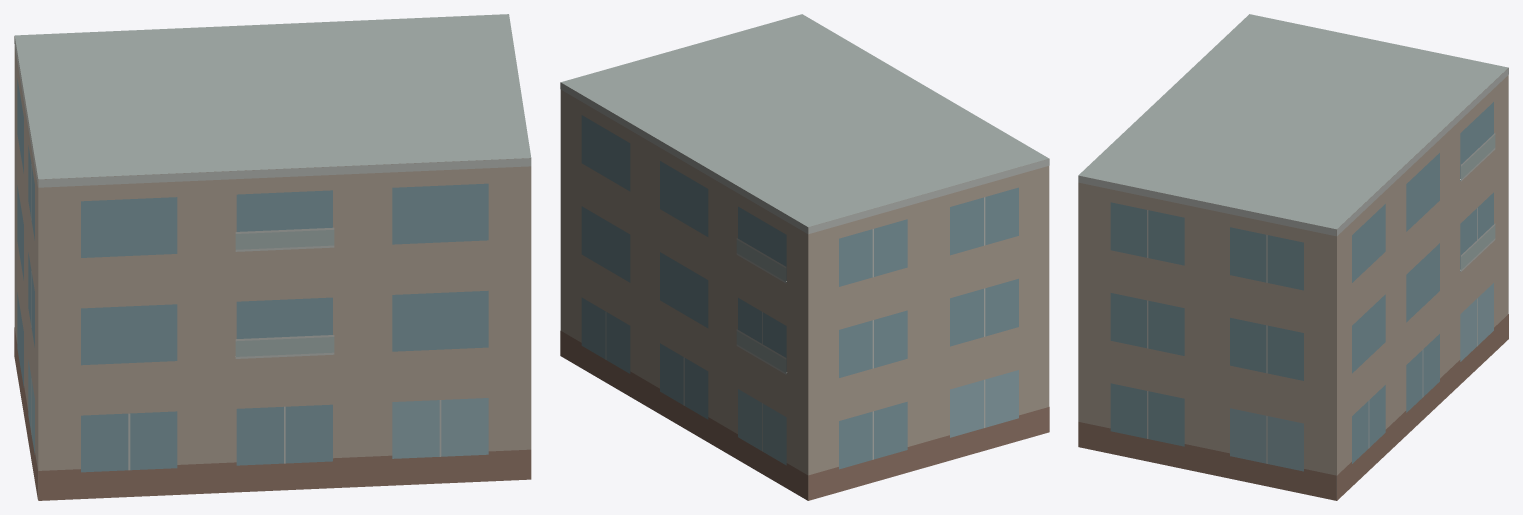
File: survey-upis-32489348.glb
3 views of the same model, side by side, from view 1: azimuth 30°, elevation 25°; view 2: azimuth 150°, elevation 25°; view 3: azimuth 270°, elevation 25° (orthographic). The views are drawn at different scales.
Parts seen in each view (by area): view 1: survey-upis-32489348.tmp; view 2: survey-upis-32489348.tmp; view 3: survey-upis-32489348.tmp.
Boxes of the visible parts, bbox=[...] form: survey-upis-32489348.tmp: bbox=[14, 14, 531, 500]; survey-upis-32489348.tmp: bbox=[560, 14, 1049, 500]; survey-upis-32489348.tmp: bbox=[1078, 14, 1508, 500].
Size of the model in its own units: 16 by 9.4 by 13.52.
